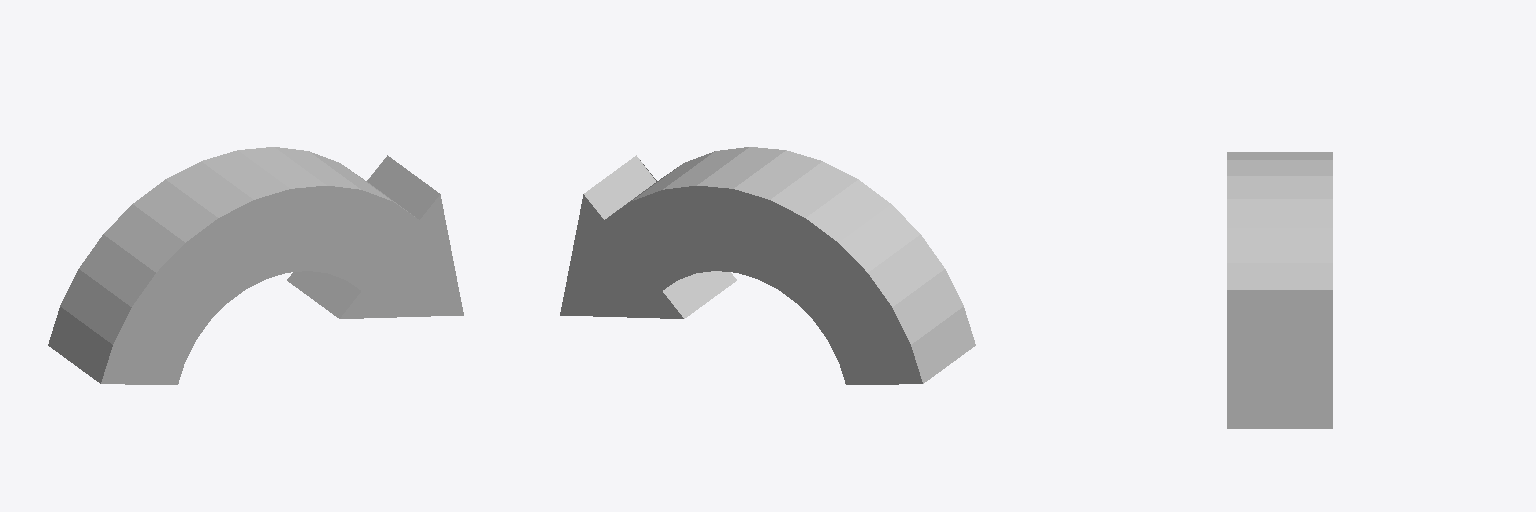
File: Arrow_78.obj
3 views of the same model, side by side, from view 1: azimuth 30°, elevation 25°; view 2: azimuth 150°, elevation 25°; view 3: azimuth 270°, elevation 25° (orthographic).
Visible parts, largest first — view 1: Arrow_78; view 2: Arrow_78; view 3: Arrow_78.
Boxes of the visible parts, x1=… form: Arrow_78: x1=48, y1=147, x2=463, y2=384; Arrow_78: x1=560, y1=147, x2=975, y2=384; Arrow_78: x1=1227, y1=152, x2=1332, y2=428.
Bounding box in the file's own units: 3.38 × 1.5 × 0.8531.